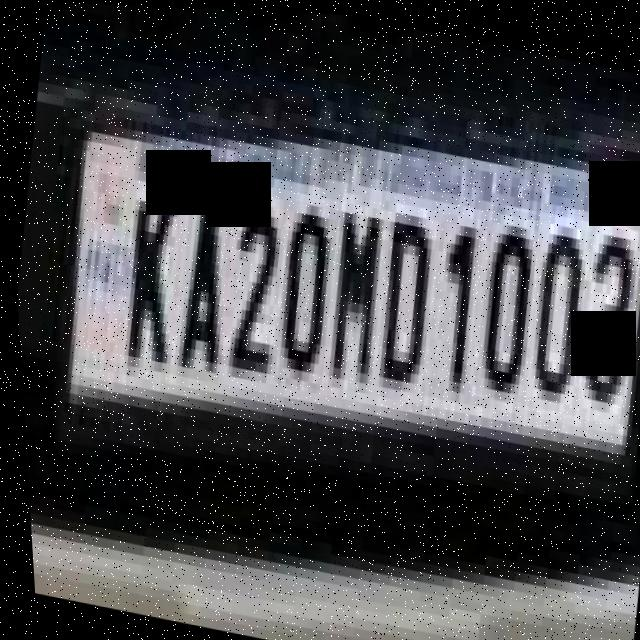0: (511, 204, 598, 415), (461, 200, 546, 399), (261, 197, 346, 389)
1: (411, 209, 492, 402)
3: (562, 215, 640, 422)
A: (161, 182, 244, 391)
D: (362, 203, 442, 387)
K: (106, 176, 192, 369)
M: (311, 197, 396, 389)
